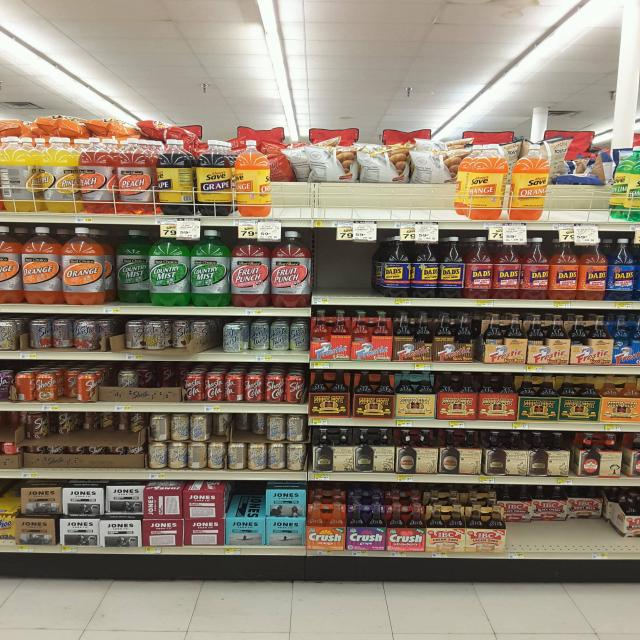void: (559, 144, 608, 227), (348, 234, 377, 308), (318, 230, 336, 309)
